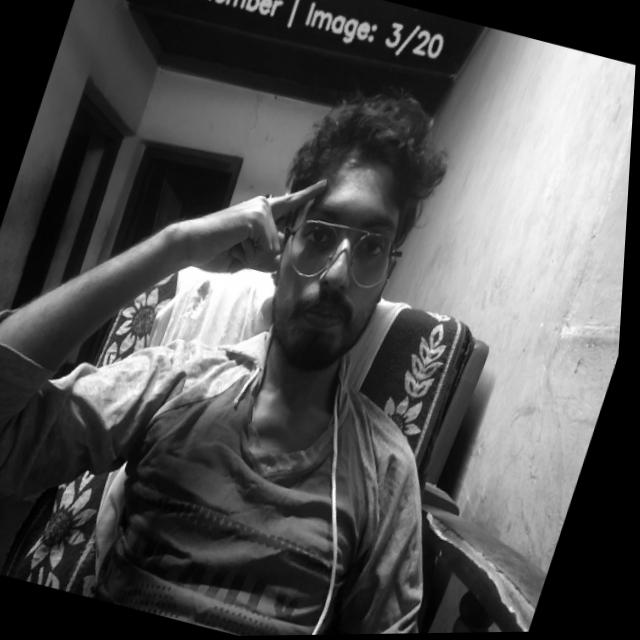Remember: (192, 149, 336, 295)
